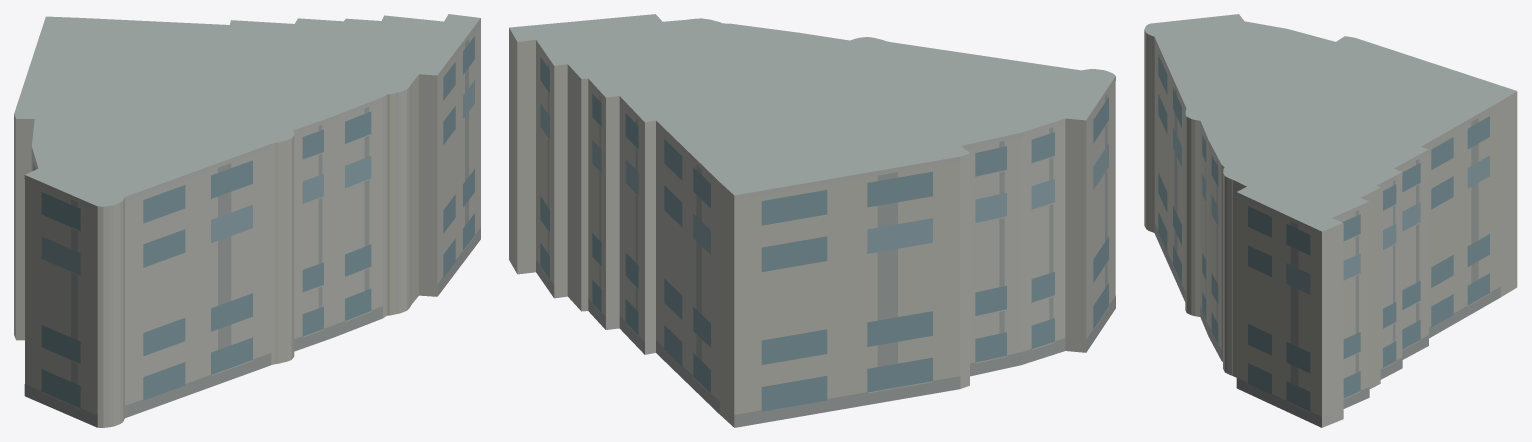
Rendered from survey-upis-32782018.glb.
3 views of the same model, side by side, from view 1: azimuth 30°, elevation 25°; view 2: azimuth 150°, elevation 25°; view 3: azimuth 270°, elevation 25° (orthographic). The views are drawn at different scales.
Visible parts, largest first — view 1: survey-upis-32782018.tmp; view 2: survey-upis-32782018.tmp; view 3: survey-upis-32782018.tmp.
Boxes of the visible parts, x1,y1,x2,y2 form: survey-upis-32782018.tmp: (14, 14, 480, 427); survey-upis-32782018.tmp: (509, 14, 1115, 427); survey-upis-32782018.tmp: (1144, 14, 1517, 427).
Bounding box in the file's own units: 28.06 × 11.8 × 20.33.
